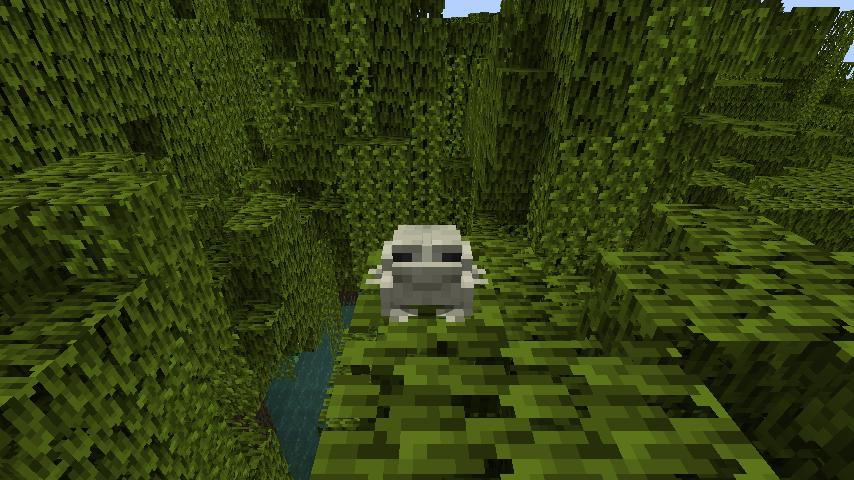frog: (362, 218, 496, 331)
